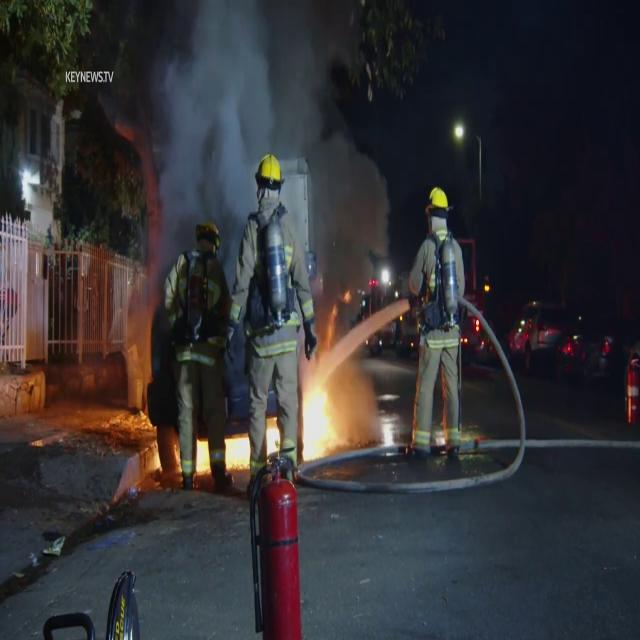Fire: (300, 368, 336, 464)
Smoke: (134, 3, 394, 286), (138, 0, 322, 274)
